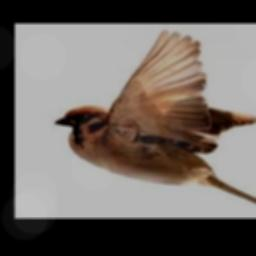Sparrow: (55, 28, 256, 211)
